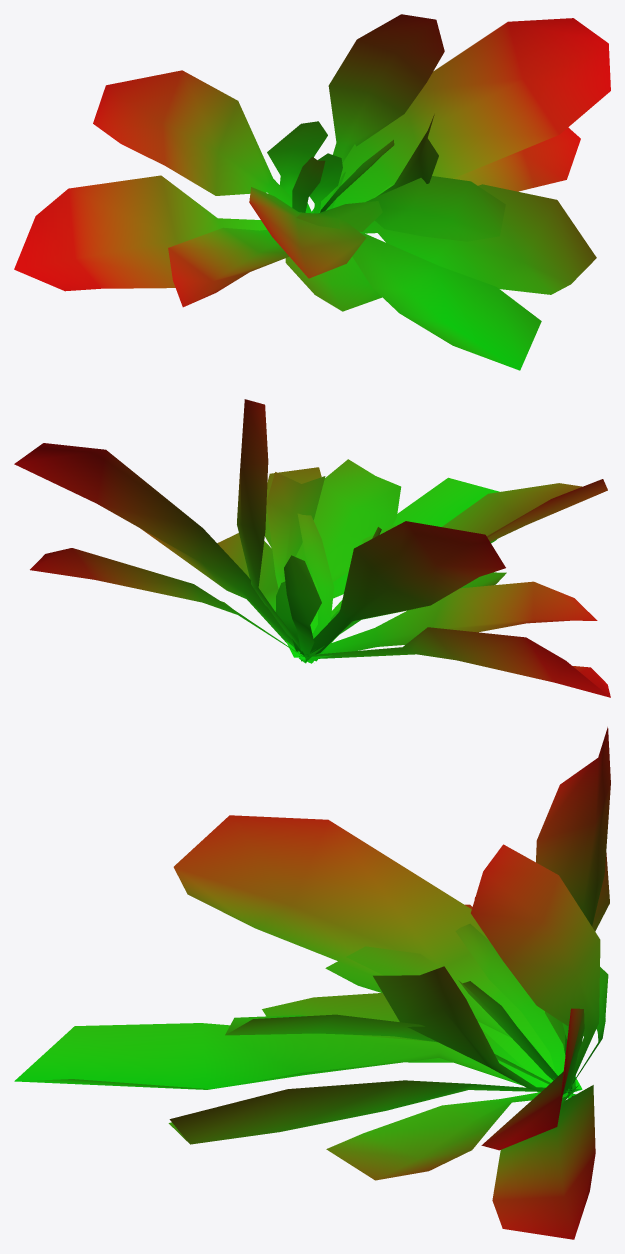
File: Var22_LOD0.fbx
3 renders of one model, top to bottom at view 1: azimuth 30°, elevation 25°; view 2: azimuth 150°, elevation 25°; view 3: azimuth 270°, elevation 25°, orthographic. The views are drawn at different scales.
Visible parts, largest first — view 1: _hcrm_Var22_LOD0; view 2: _hcrm_Var22_LOD0; view 3: _hcrm_Var22_LOD0.
Boxes of the visible parts, box(x1,y1,x2,y2) form: _hcrm_Var22_LOD0: box(14, 14, 610, 370); _hcrm_Var22_LOD0: box(14, 399, 610, 697); _hcrm_Var22_LOD0: box(14, 727, 610, 1239).
Size of the model in its own units: 22.06 by 8 by 14.36.
